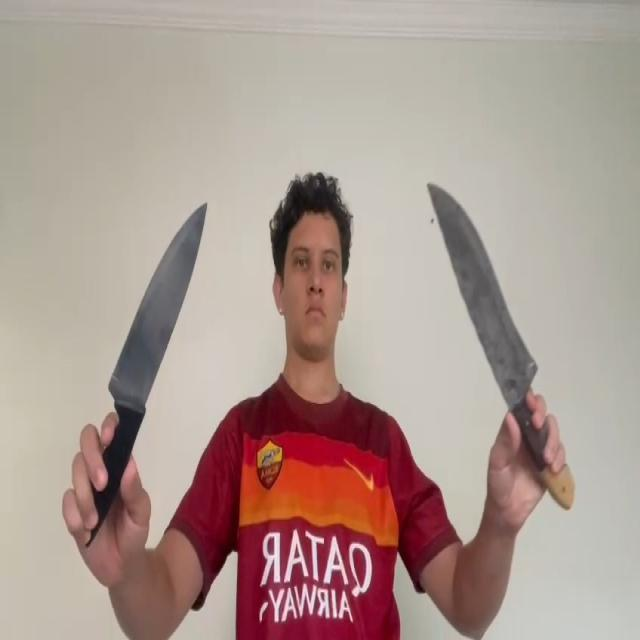knife: (427, 181, 540, 375), (107, 200, 209, 400)
